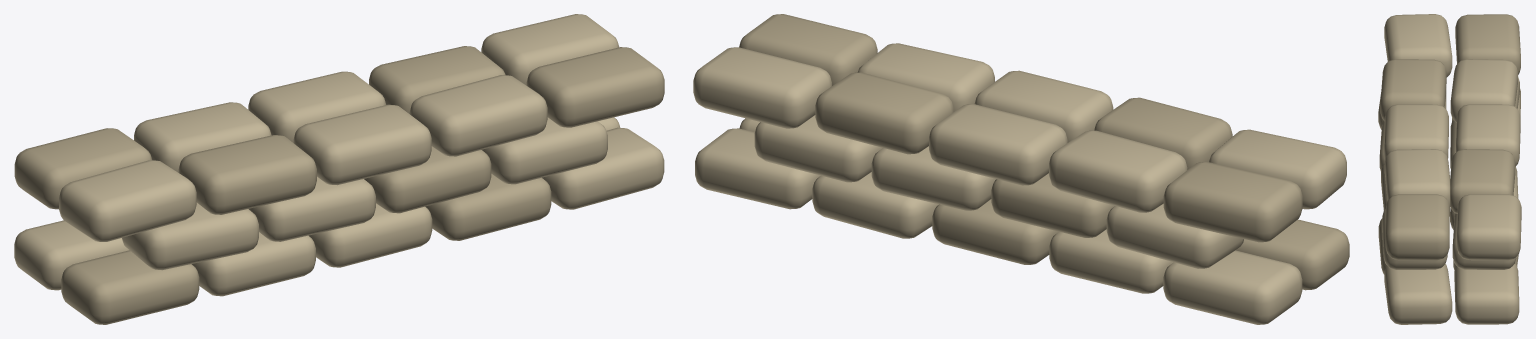
The model's file is sandbags.glb.
3 views of the same model, side by side, from view 1: azimuth 30°, elevation 25°; view 2: azimuth 150°, elevation 25°; view 3: azimuth 270°, elevation 25° (orthographic). The views are drawn at different scales.
Parts seen in each view (by area): view 1: Part; view 2: Part; view 3: Part.
Boxes of the visible parts, x1=… form: Part: x1=14, y1=14, x2=664, y2=324; Part: x1=693, y1=14, x2=1349, y2=324; Part: x1=1378, y1=14, x2=1521, y2=324.
Bounding box in the file's own units: 2.97 × 0.6 × 0.8074.
